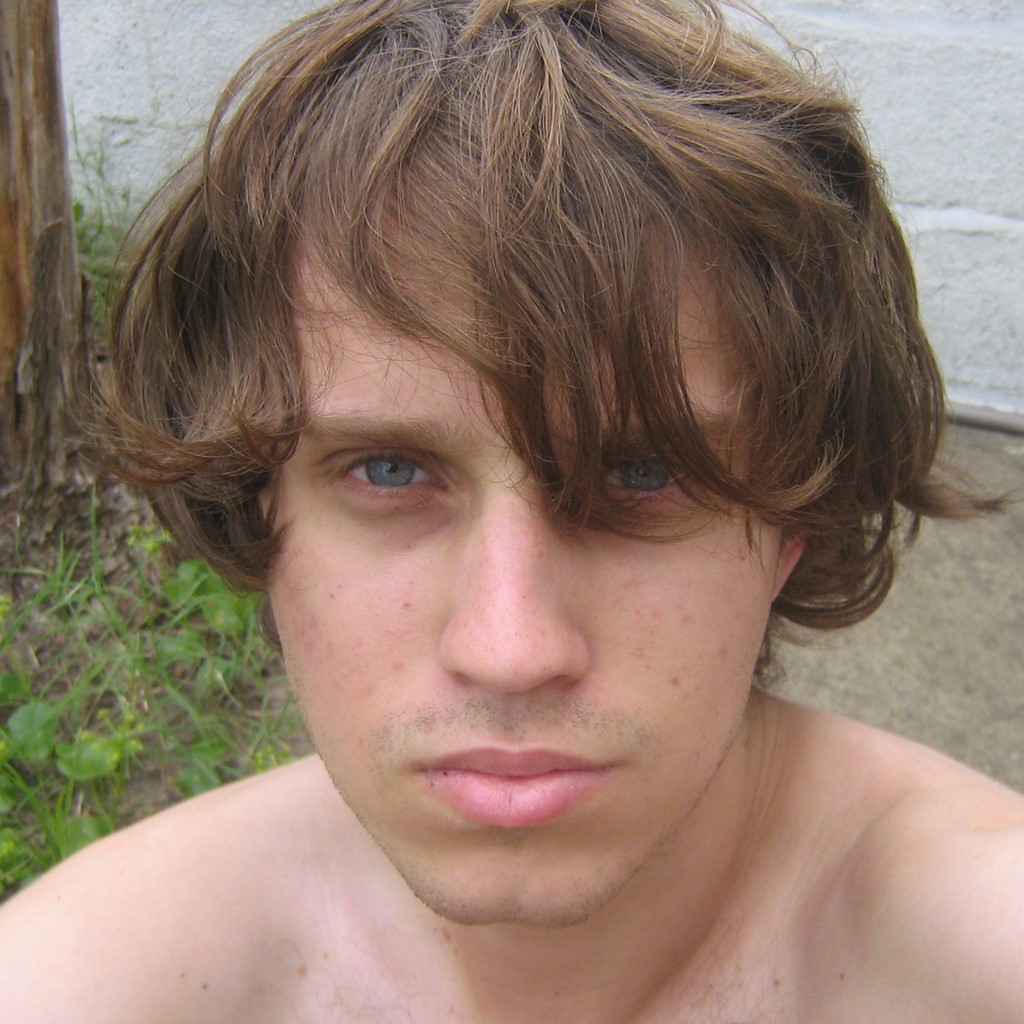sin_mascara: (240, 66, 810, 928)
